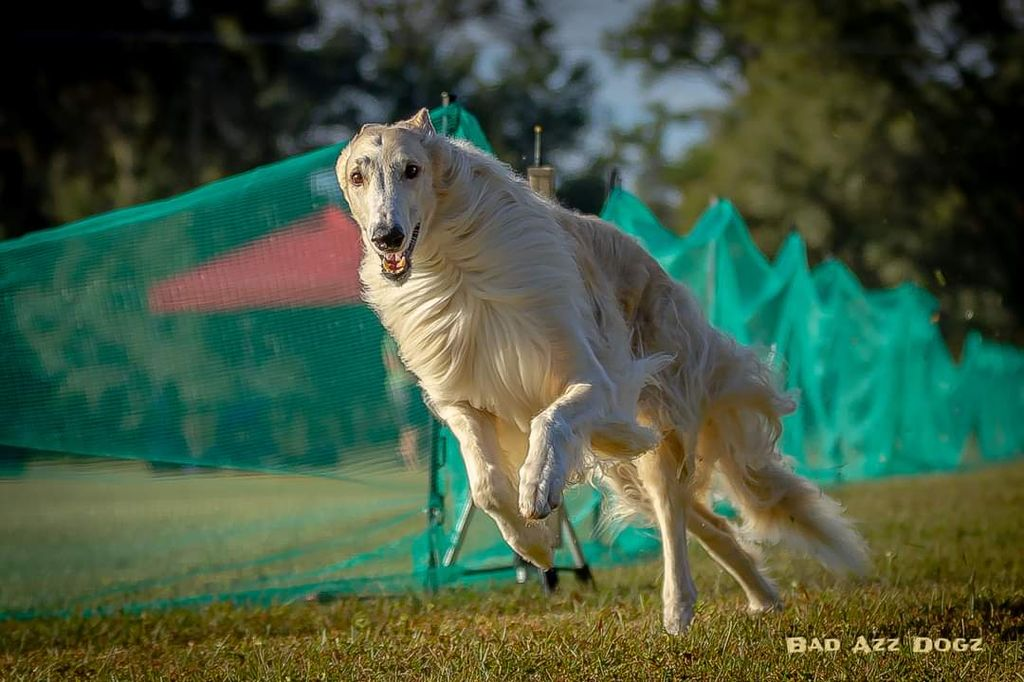borzoi: (300, 107, 893, 637)
